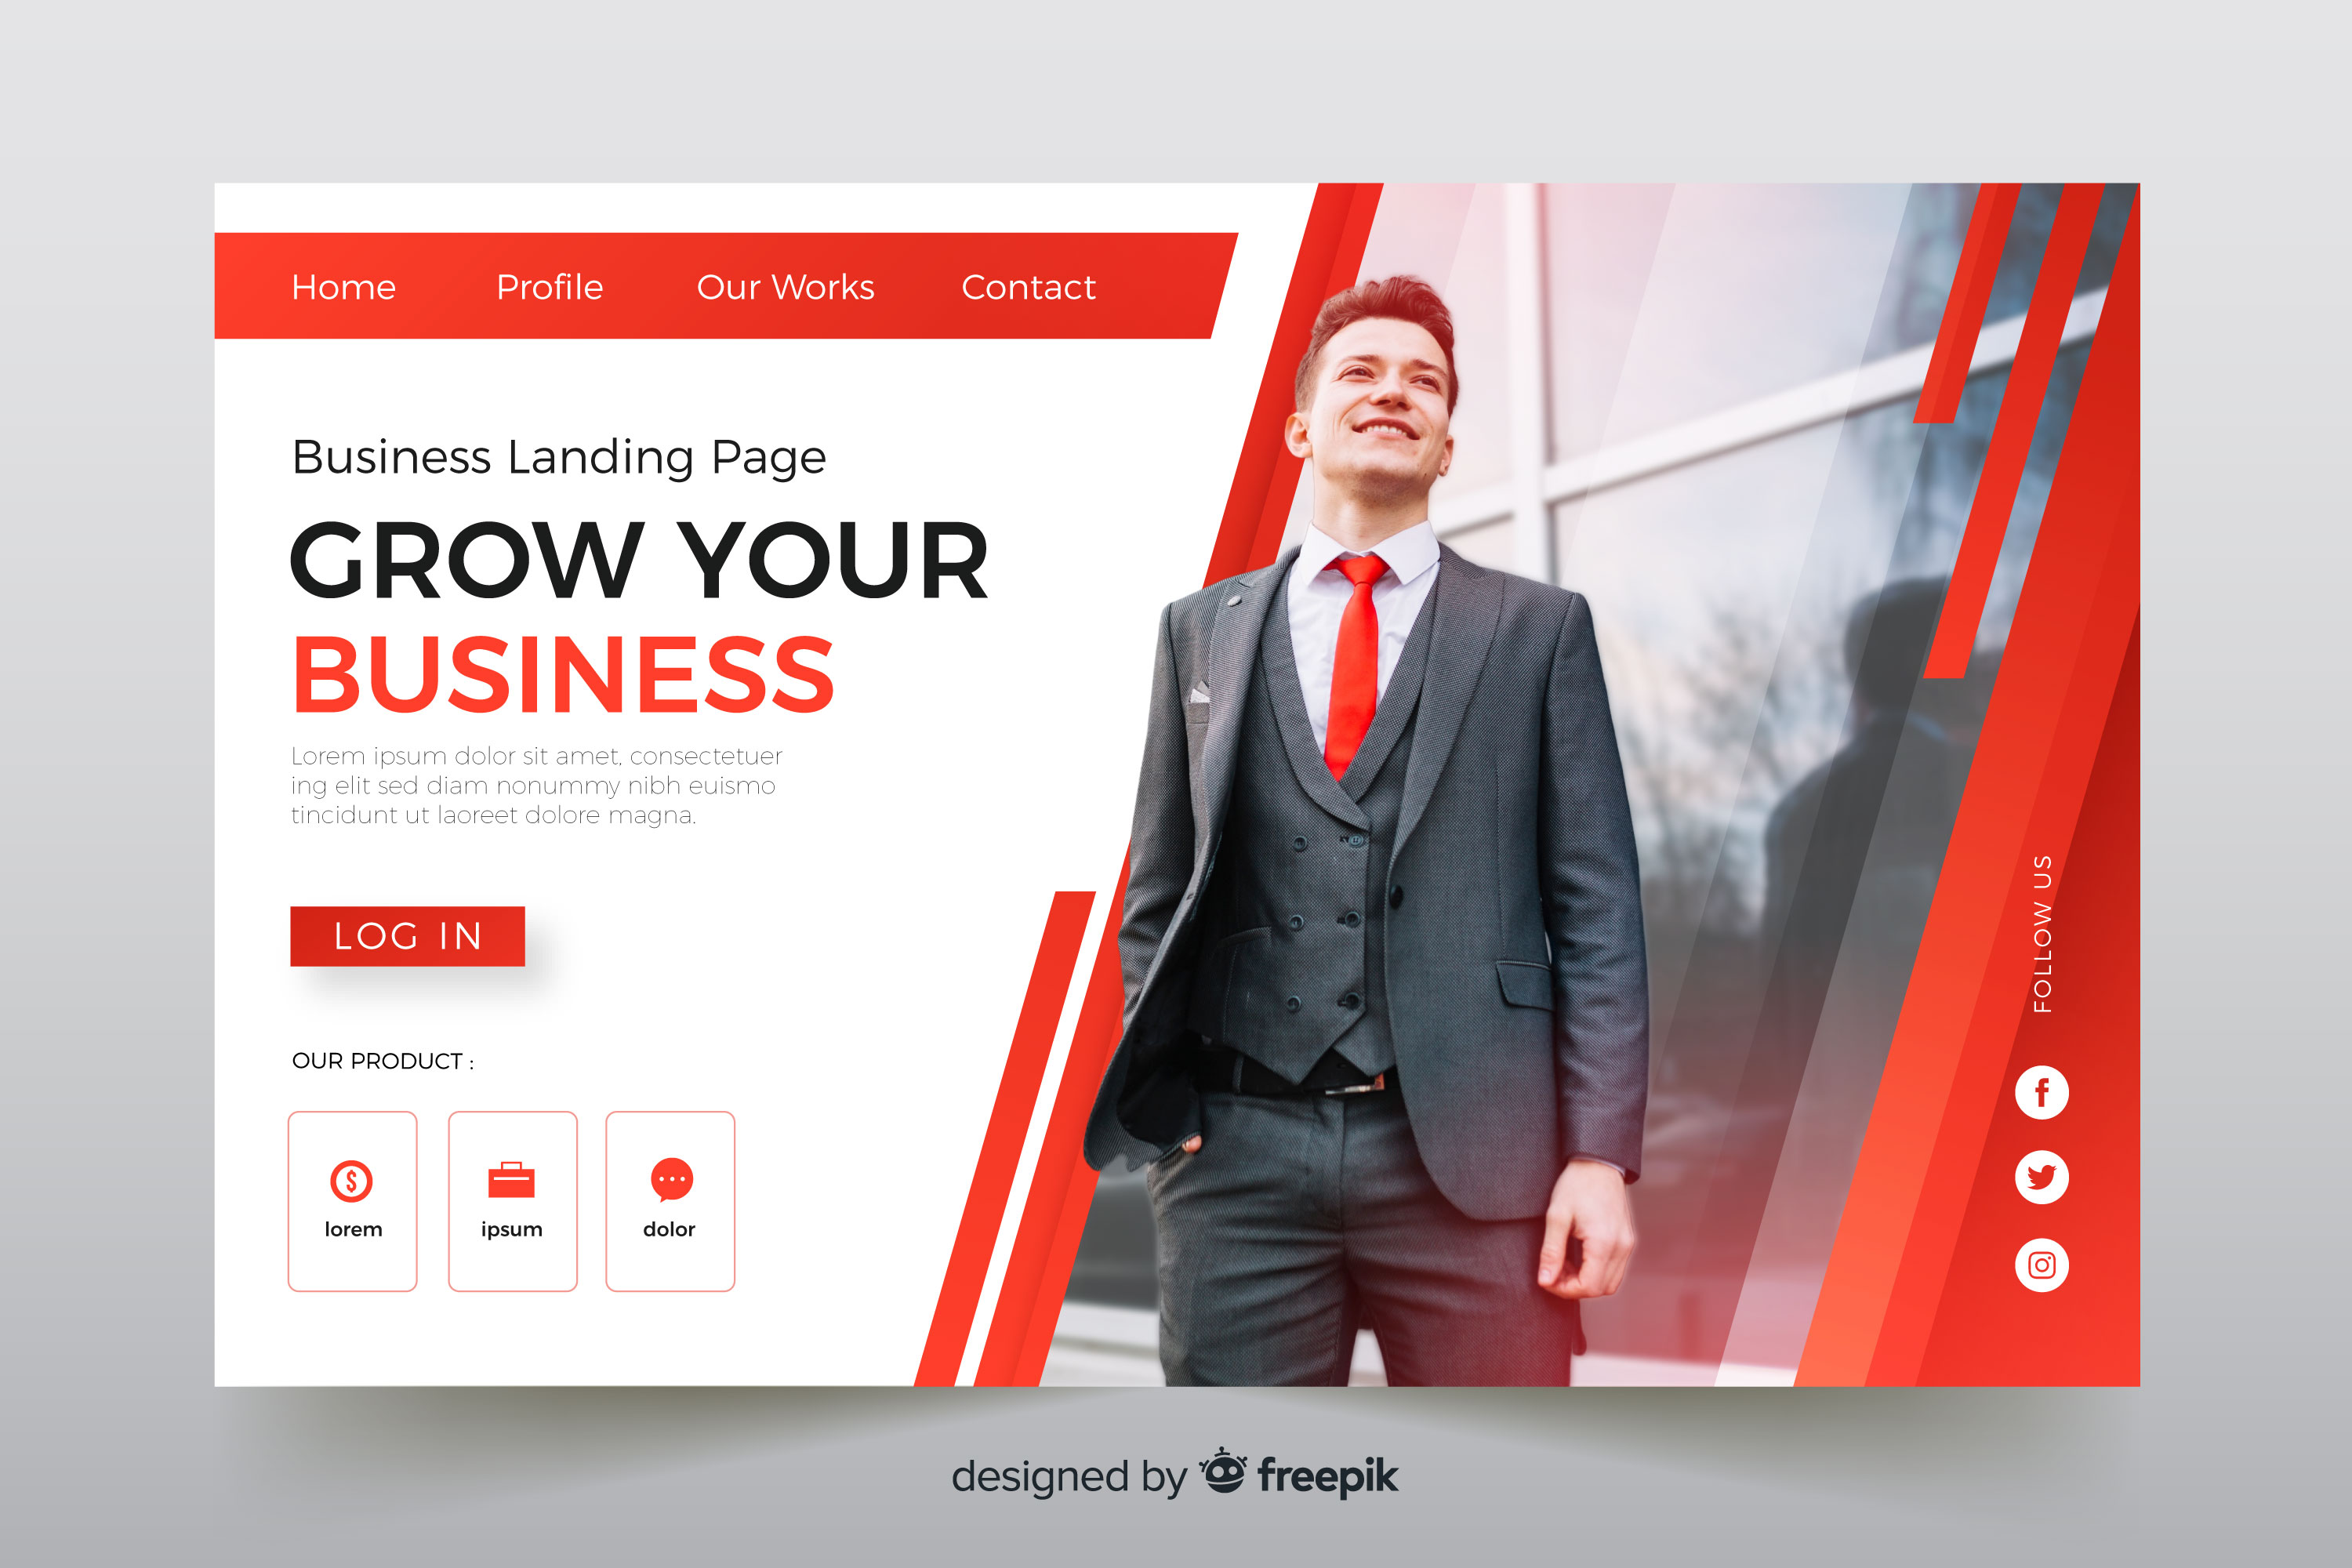menu: (222, 210, 2112, 339)
